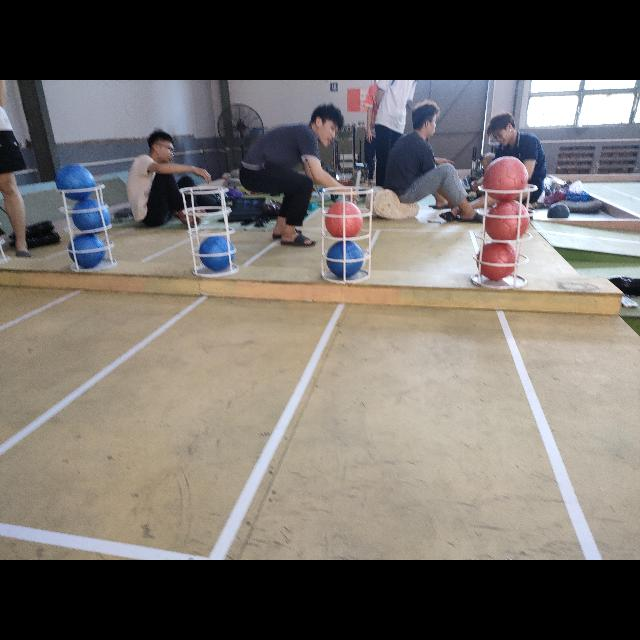B: (324, 240, 366, 278), (70, 198, 111, 236), (54, 163, 94, 201), (68, 232, 108, 270), (198, 235, 236, 272)
R: (483, 156, 531, 200), (482, 202, 534, 238), (326, 200, 364, 242), (477, 244, 518, 282)
